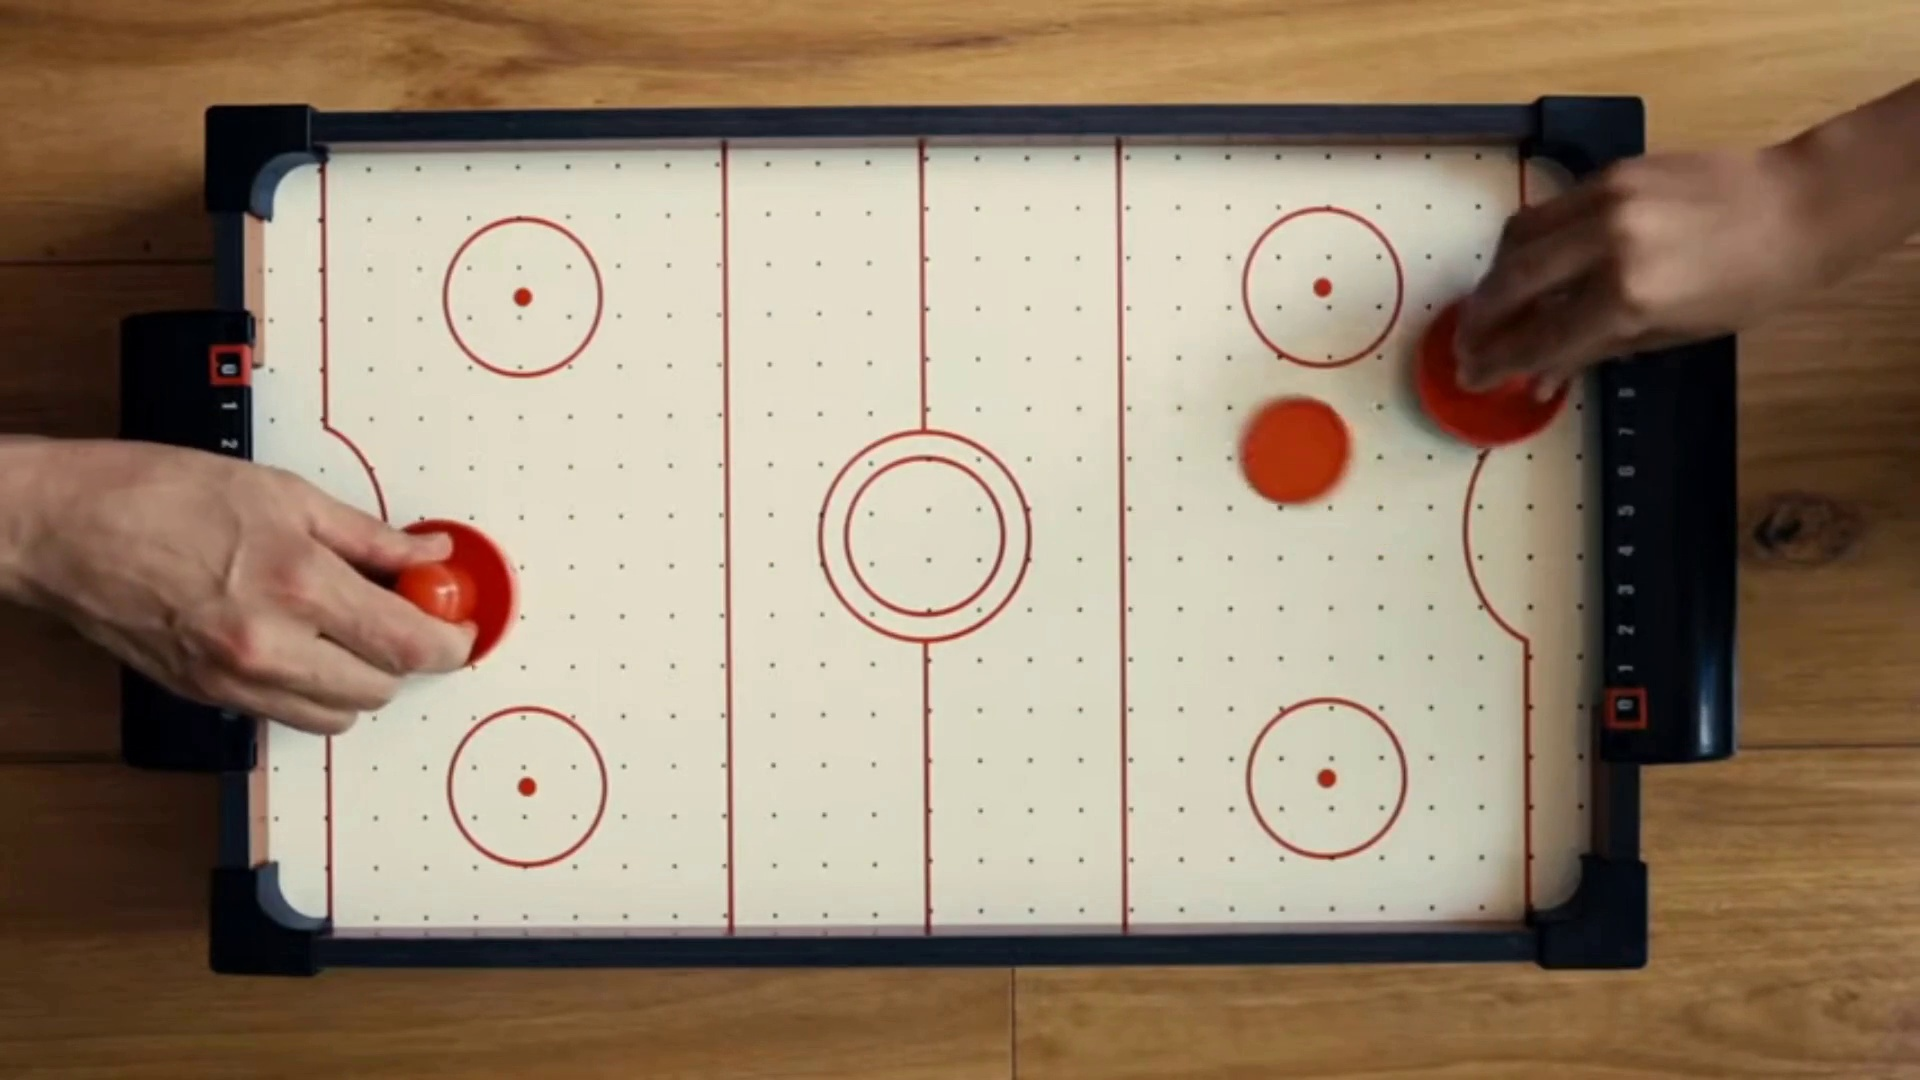player1: (363, 520, 516, 673)
player2: (1413, 301, 1563, 448)
puck: (1239, 394, 1341, 509)
table: (257, 149, 1610, 922)
